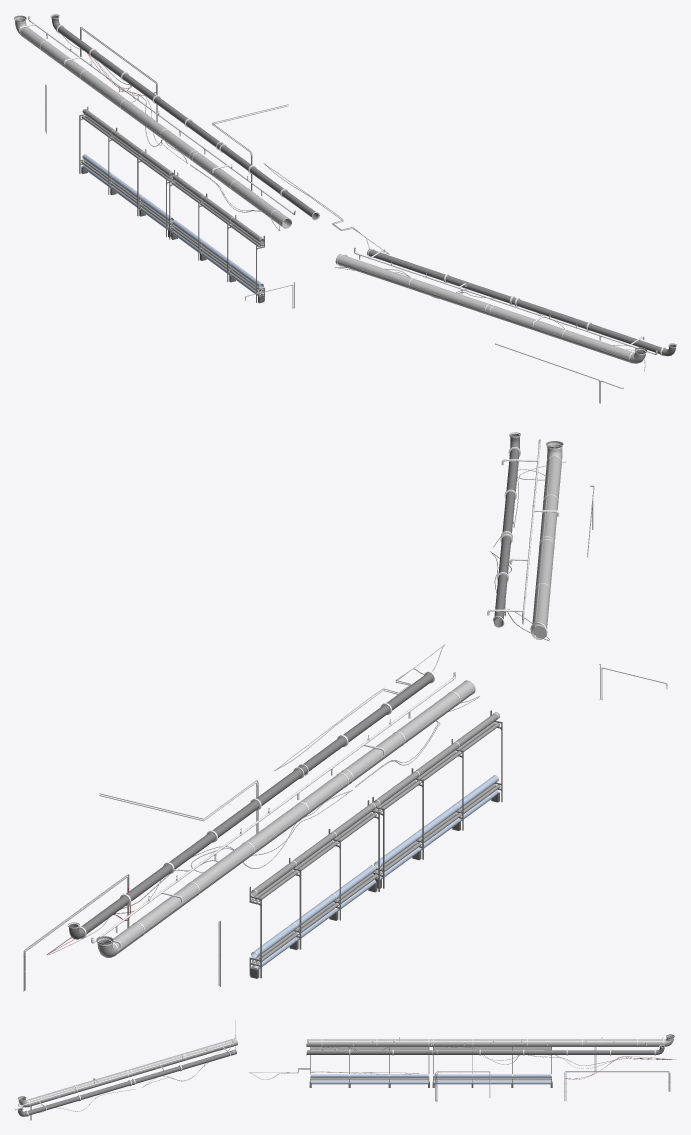
3 renders of one model, top to bottom at view 1: azimuth 30°, elevation 25°; view 2: azimuth 150°, elevation 25°; view 3: azimuth 270°, elevation 25°, orthographic. The views are drawn at different scales.
Parts seen in each view (by area): view 1: SM_H_Building_FutureTech_ToolHouse_02_InterWall_01A; view 2: SM_H_Building_FutureTech_ToolHouse_02_InterWall_01A; view 3: SM_H_Building_FutureTech_ToolHouse_02_InterWall_01A.
Boxes of the visible parts, box(x1,y1,x2,y2) form: SM_H_Building_FutureTech_ToolHouse_02_InterWall_01A: box(14, 14, 676, 403); SM_H_Building_FutureTech_ToolHouse_02_InterWall_01A: box(23, 432, 667, 991); SM_H_Building_FutureTech_ToolHouse_02_InterWall_01A: box(14, 1020, 676, 1120).
Bounding box in the file's own units: 1410 × 459 × 139.
